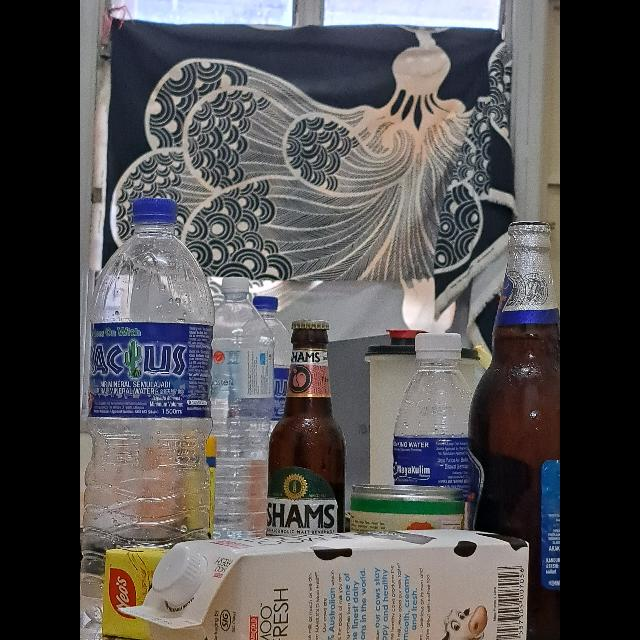caixinha: (127, 540, 536, 640), (100, 544, 184, 640)
garrafa de vidro: (464, 212, 560, 636), (270, 321, 344, 544)
garrafa plástica: (84, 230, 216, 568), (396, 359, 479, 507), (218, 301, 268, 543)
lata: (351, 483, 463, 542)
tampa plástica: (153, 542, 200, 604), (412, 328, 463, 364), (129, 196, 175, 224), (254, 289, 278, 315), (225, 269, 243, 293)
